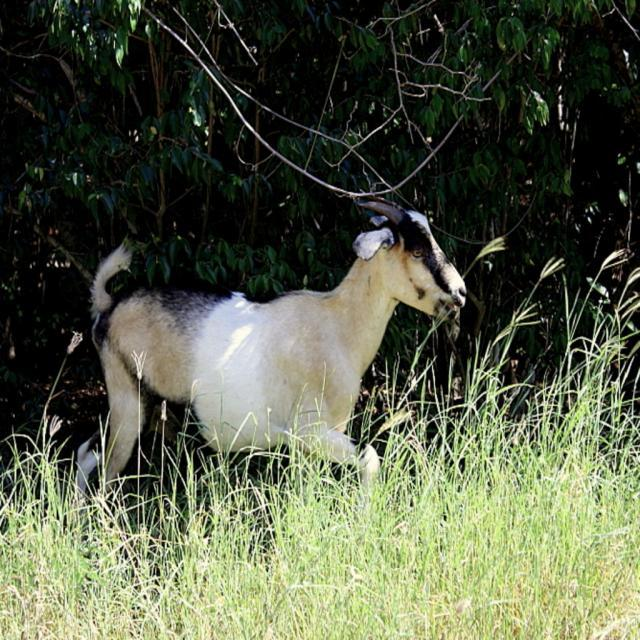Goat: (76, 193, 468, 511)
